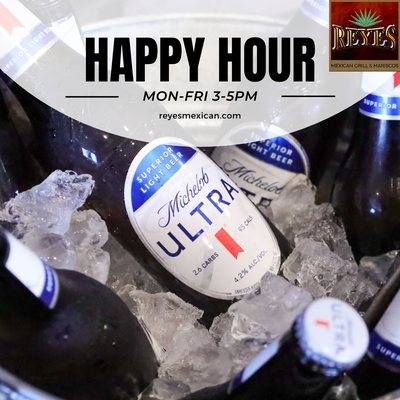salad: (0, 225, 160, 400)
